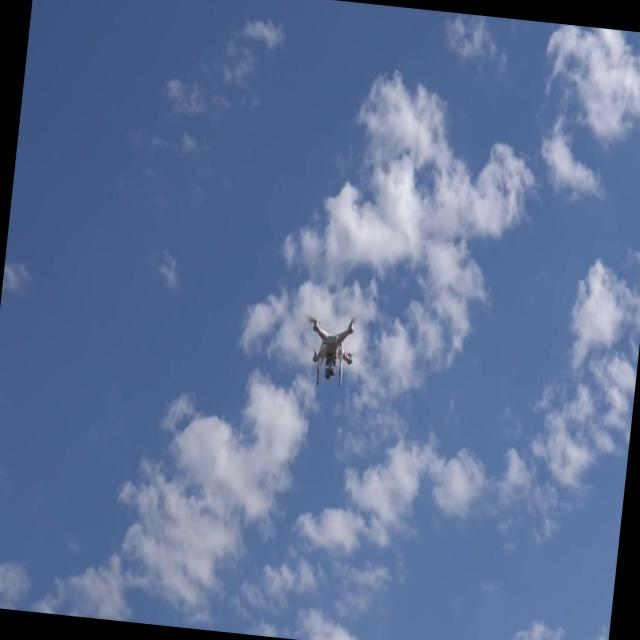drone: (301, 312, 362, 394)
